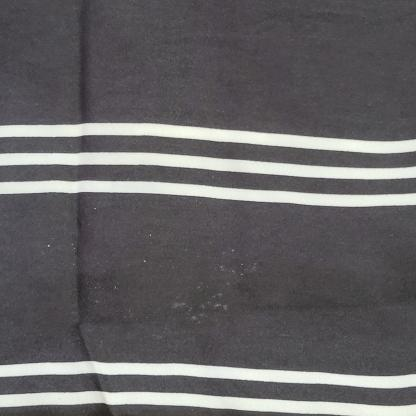spot: (177, 285, 232, 322), (209, 245, 258, 286), (91, 203, 99, 214), (46, 239, 52, 250), (142, 257, 148, 266)
